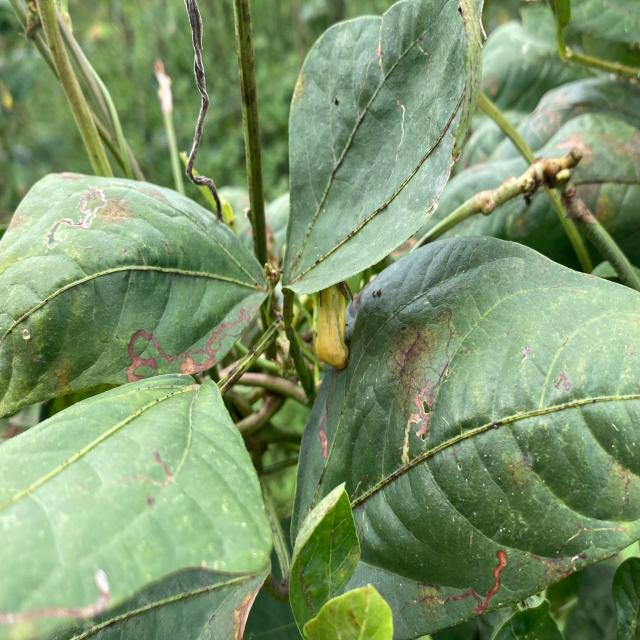sitaw-aphid-high: (0, 375, 272, 640), (0, 172, 266, 417), (282, 0, 484, 294)
